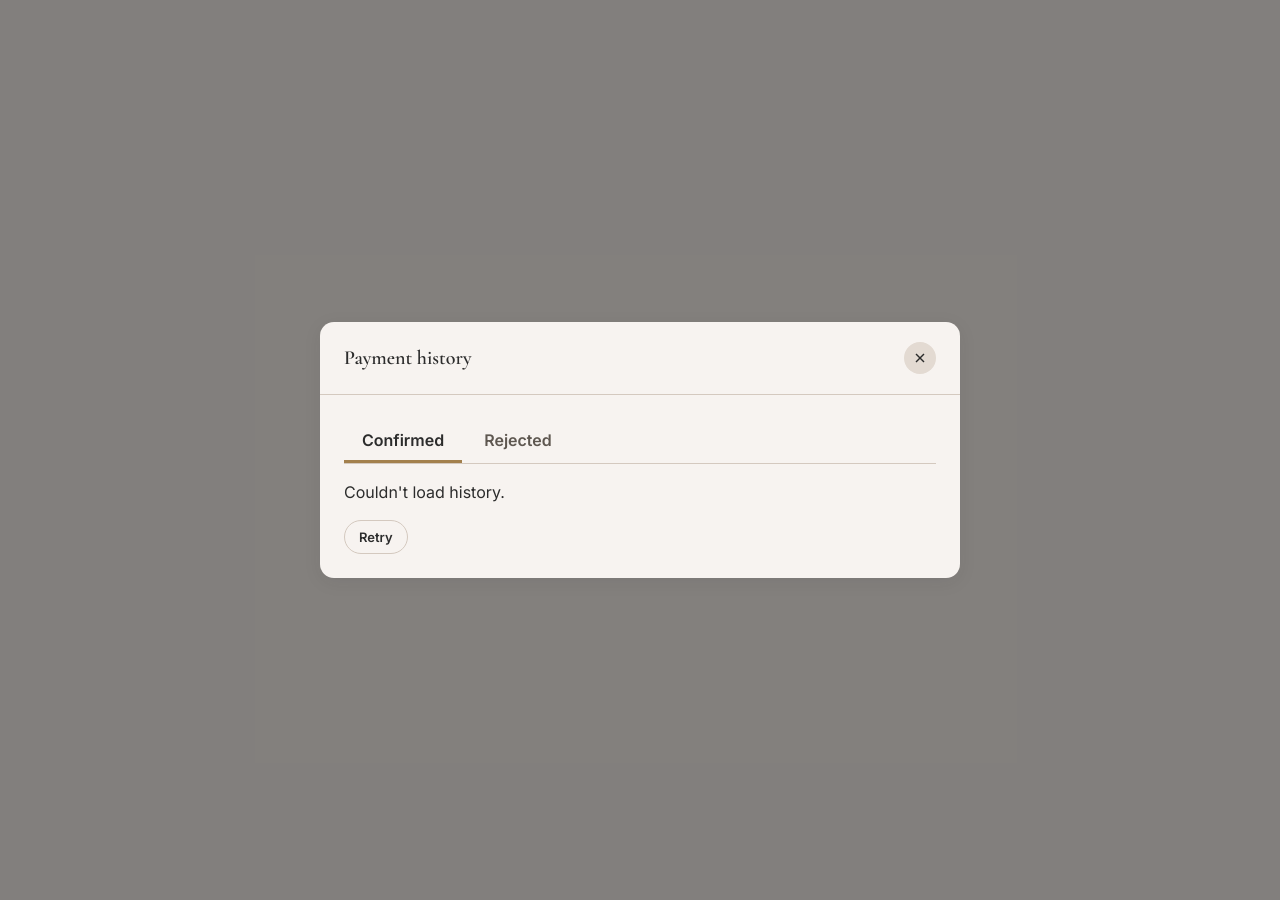
Test: PaymentHistoryModal › shows an error and retries
The image size is (1280, 900).
Expected: the text "Couldn't load history." is shown, [344,482,505,502]
Click the button "Retry": (376, 537) [344,520,408,554]
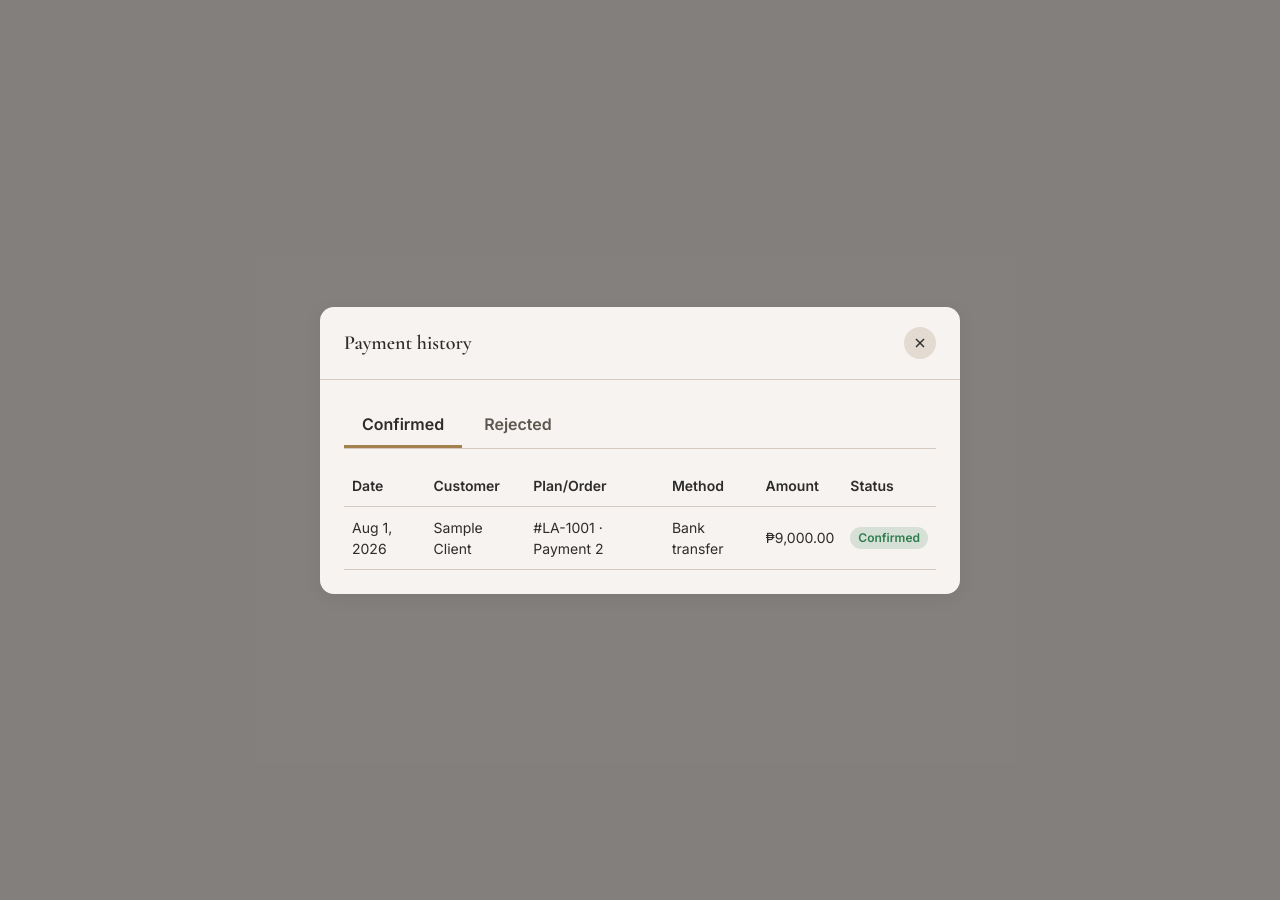
Now the text "Sample Client" is shown, box [426,506,525,569]
Now the text "Couldn't load history." is gone
